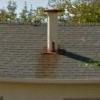Chimney: (39, 3, 68, 57)
